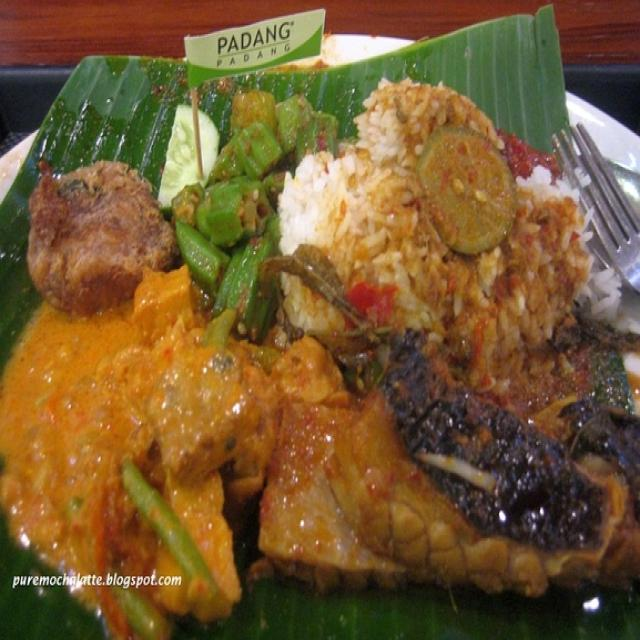米饭主食: (13, 15, 619, 615)
